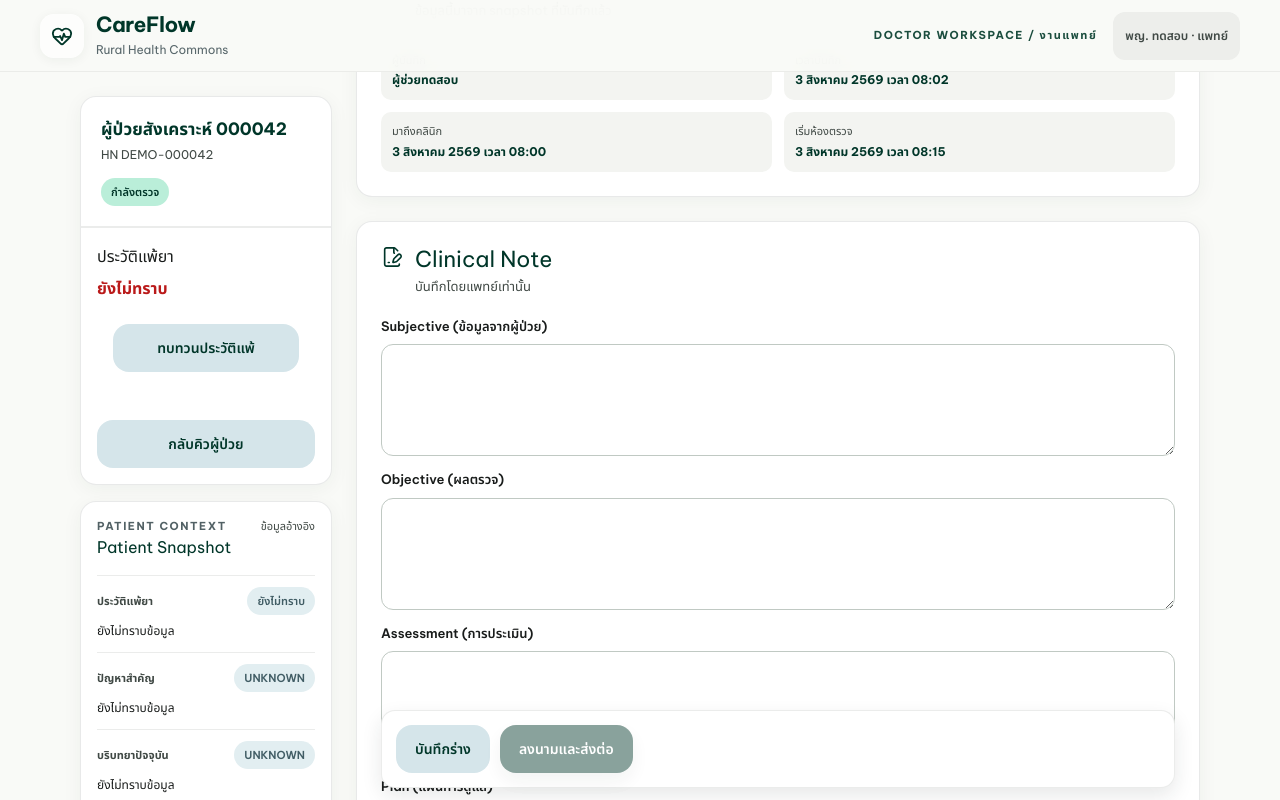
Scenario: Doctor consultation authoring › keeps unsaved note text when refreshed patient context changes
(page scrolled)
In the text box labelled "Subjective (ข้อมูลจากผู้ป่วย)": (778, 400) x1=381 y1=344 x2=1175 y2=456, type "ข้อความที่ยังไม่บันทึก"
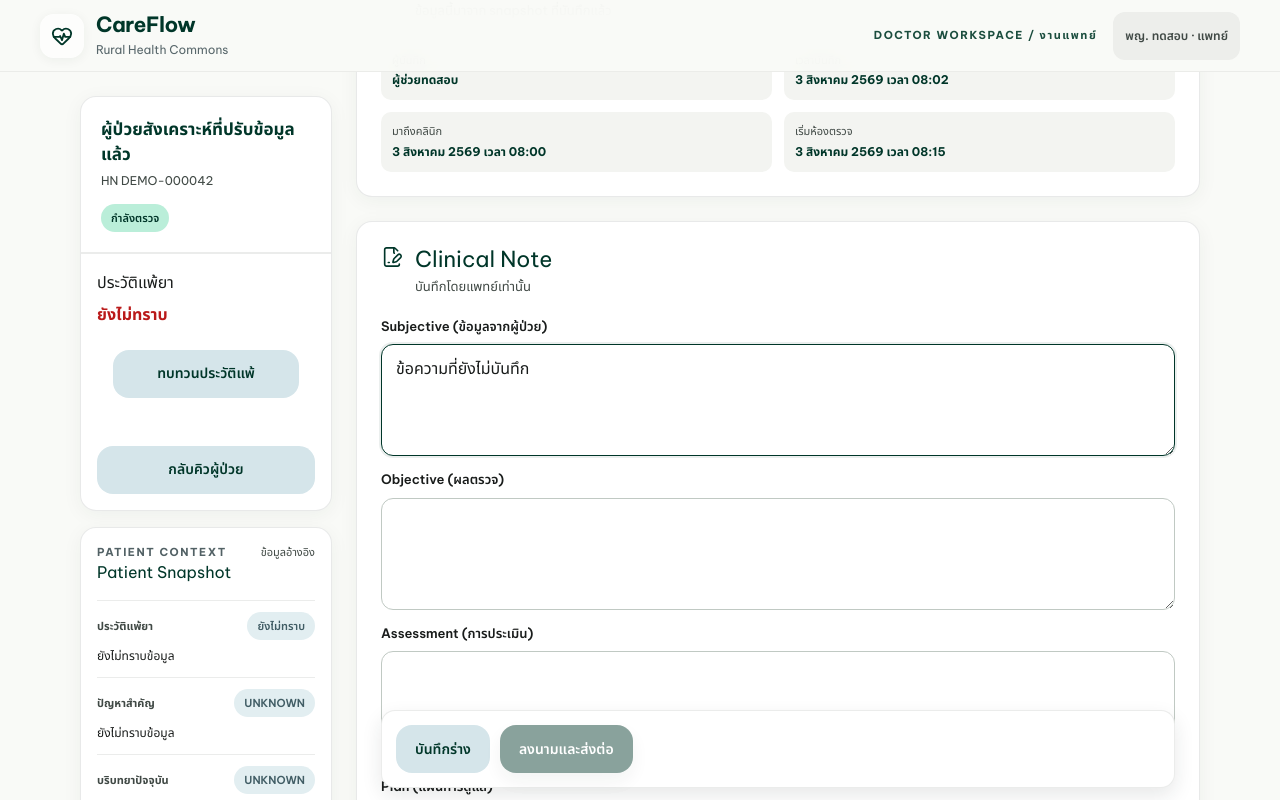
Expected: the text "ผู้ป่วยสังเคราะห์ที่ปรับข้อมูลแล้ว" is shown, x1=101 y1=117 x2=311 y2=168
